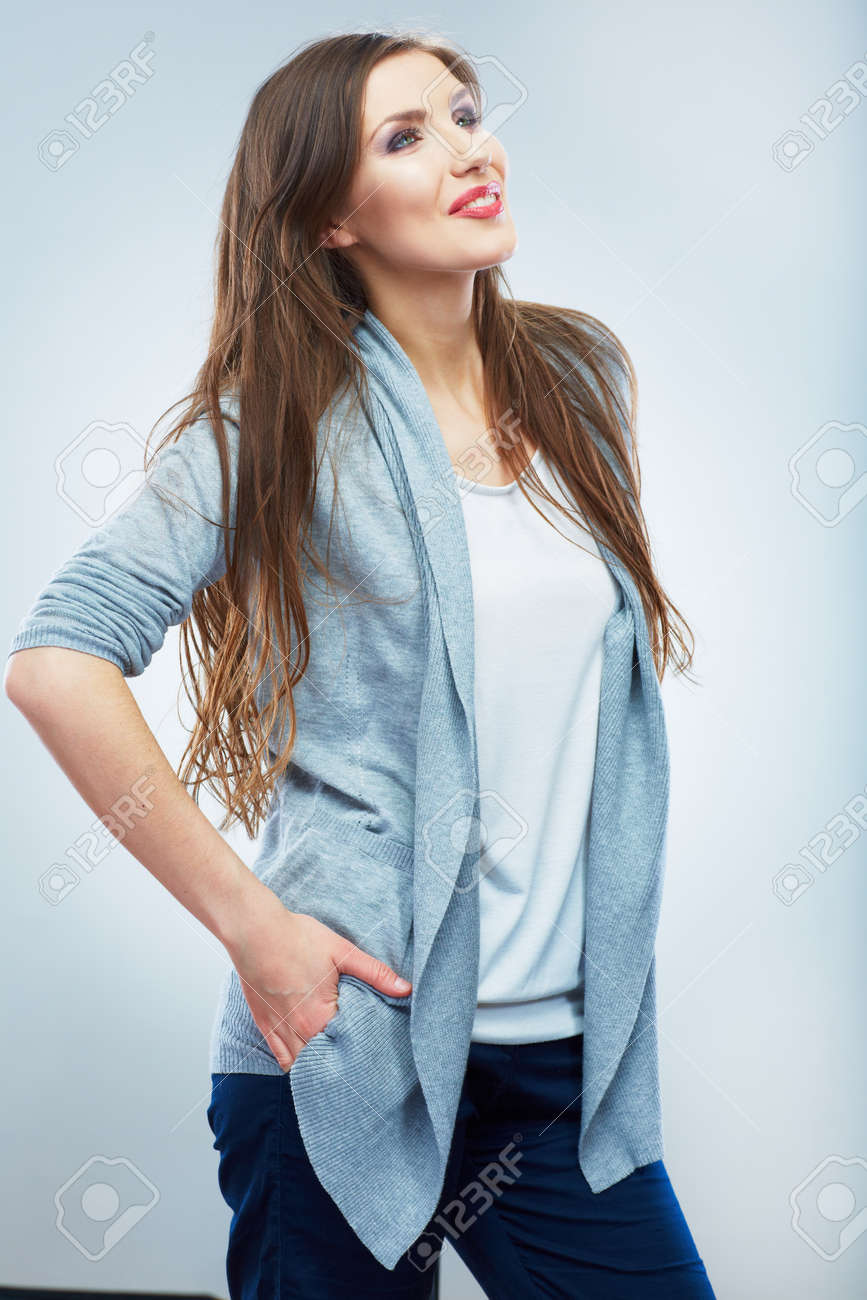person: (33, 27, 745, 1300)
